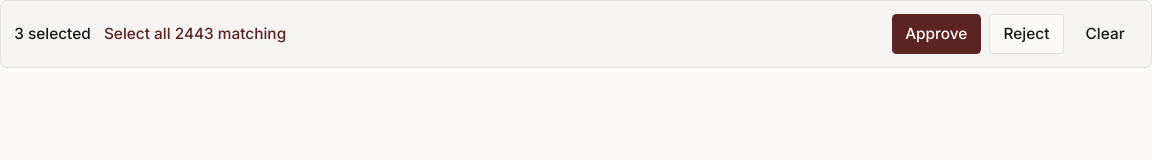
Test: surfaces a failure to load the match set without changing anything
The width and height of the screenshot is (1152, 160).
Click the button "Select all 2443 matching": (195, 34) [104,23,286,45]
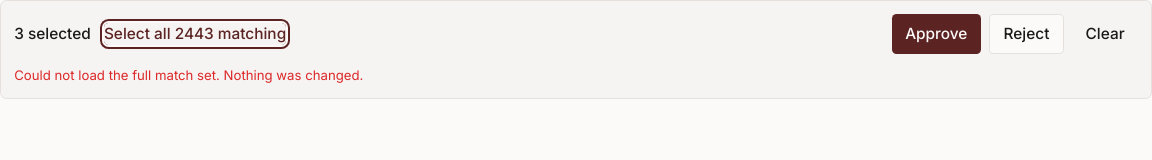
Expected: the text "Could not load the full match set. Nothing was changed." is shown, [14,67,363,83]
